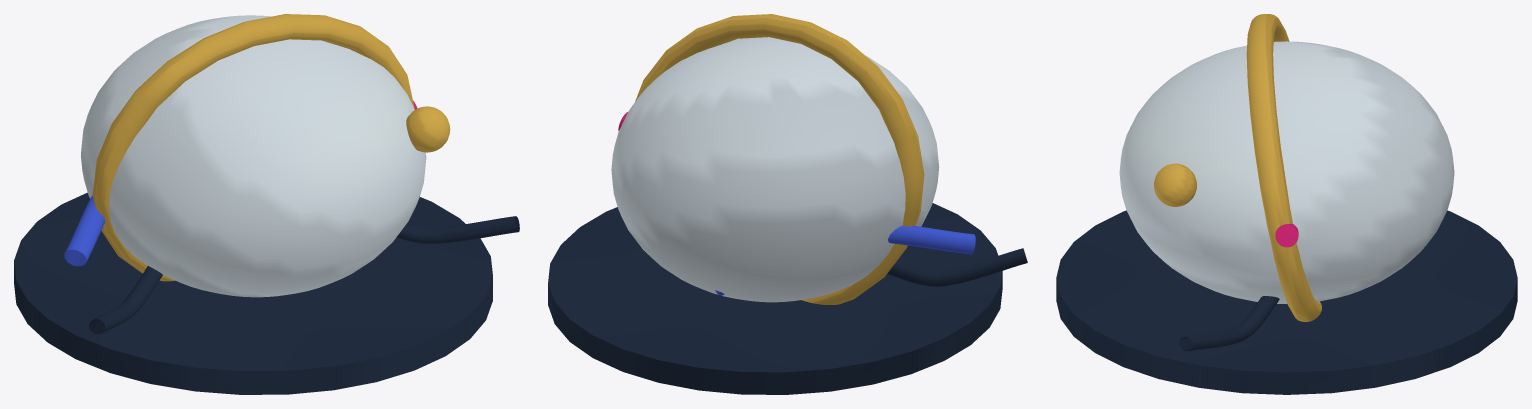
Rendered from 0427_微生物图鉴_变形虫.glb.
3 renders of one model, left to right at view 1: azimuth 30°, elevation 25°; view 2: azimuth 150°, elevation 25°; view 3: azimuth 270°, elevation 25°, orthographic. The views are drawn at different scales.
Visible parts, largest first — view 1: card_0427; view 2: card_0427; view 3: card_0427.
Boxes of the visible parts, box(x1,y1,x2,y2) form: card_0427: box(14, 14, 519, 394); card_0427: box(548, 14, 1027, 394); card_0427: box(1056, 14, 1517, 394).
Size of the model in its own units: 1.57 by 1 by 1.55.
